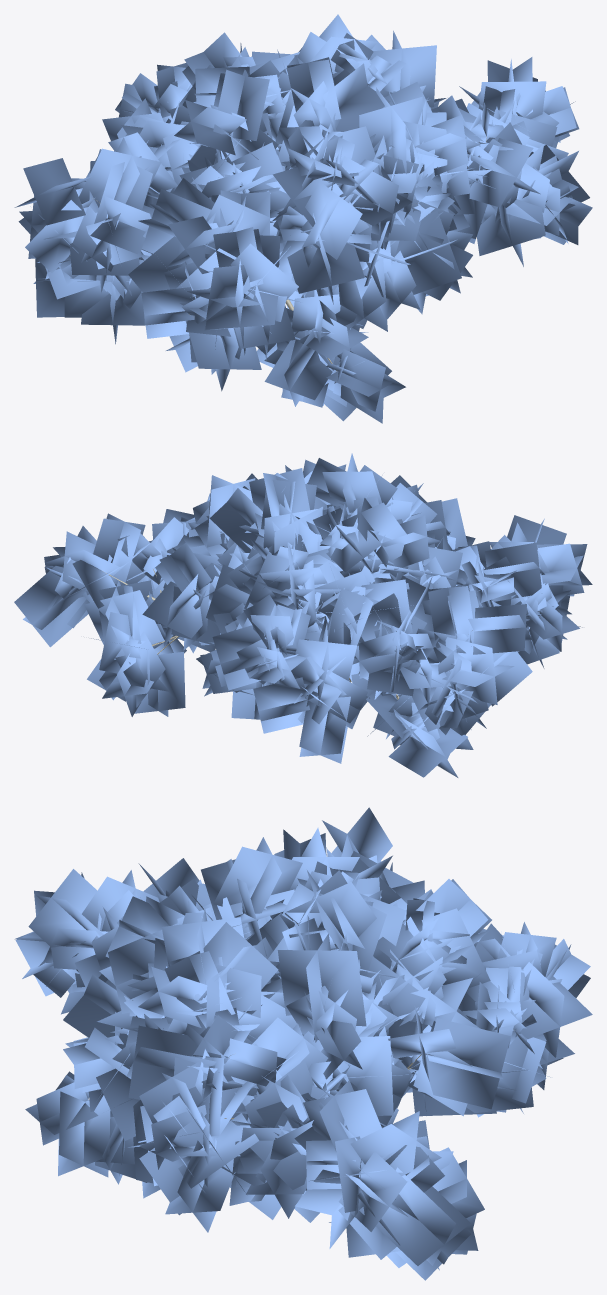
Rendered from bush_3_v0_lod0.glb.
3 renders of one model, top to bottom at view 1: azimuth 30°, elevation 25°; view 2: azimuth 150°, elevation 25°; view 3: azimuth 270°, elevation 25°, orthographic. The views are drawn at different scales.
Visible parts, largest first — view 1: Leaves; view 2: Leaves; view 3: Leaves.
Part boxes in pixels (left/top/right/bottom): Leaves: left=14, top=14, right=592, bottom=423; Leaves: left=14, top=453, right=592, bottom=777; Leaves: left=14, top=807, right=592, bottom=1280.
Bounding box in the file's own units: 39.46 × 20.9 × 30.35.
